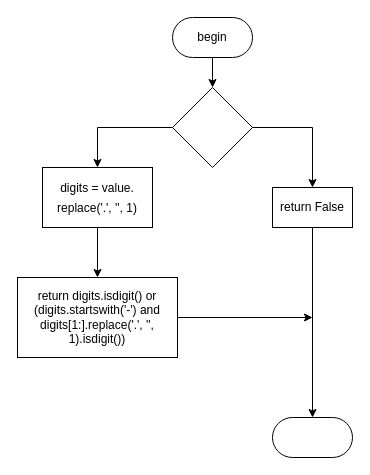
The diagram is 370 pixels wide and 475 high, and some of its shapes have lost their labels. The centre of each missing label's shape, as x and y in pixels:
end: point 312,437
not value: point 212,127
